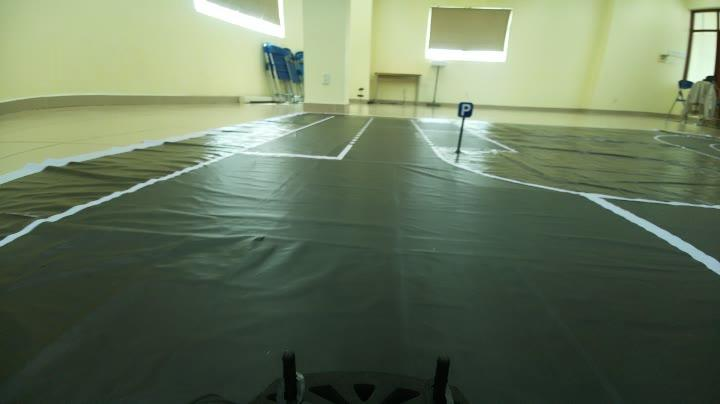parking: (450, 95, 482, 125)
